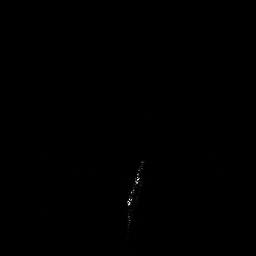ship: (125, 158, 145, 226)
